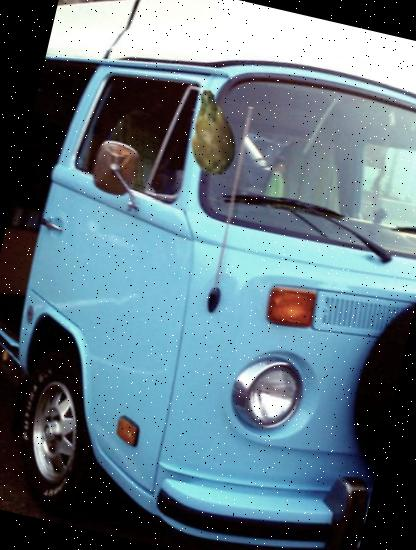Cactus: (162, 81, 264, 183)
